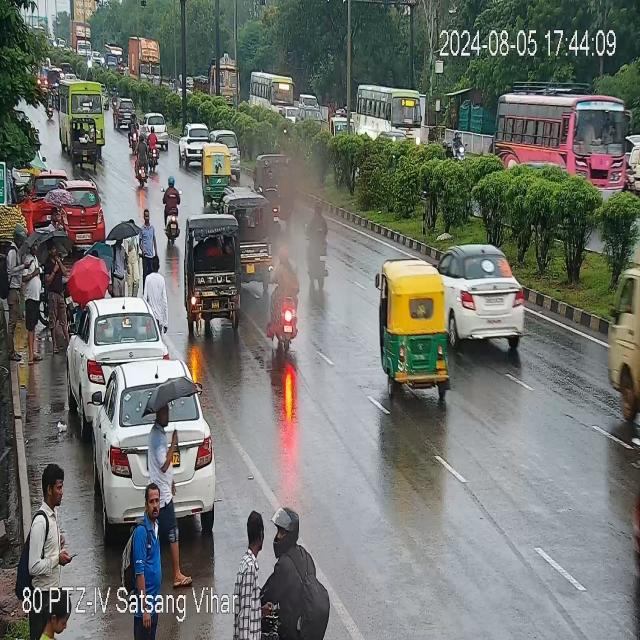2-wheelers: (258, 506, 329, 640), (304, 198, 333, 293), (271, 245, 297, 346), (39, 60, 75, 109), (161, 174, 180, 248), (618, 140, 640, 196), (266, 166, 284, 218), (144, 123, 163, 166), (135, 134, 150, 188), (126, 118, 142, 151)
auto: (372, 246, 458, 405), (182, 213, 248, 329), (603, 264, 636, 460), (224, 184, 272, 283), (256, 152, 294, 226), (201, 142, 237, 196)
bus: (493, 83, 638, 195), (346, 87, 436, 144), (55, 79, 113, 162), (253, 68, 295, 114)
car: (90, 358, 194, 518), (136, 368, 217, 514), (67, 297, 166, 397), (442, 240, 532, 348), (25, 179, 108, 244), (178, 124, 218, 166), (143, 112, 169, 140), (114, 98, 132, 130)
pedestrian: (150, 394, 194, 587), (26, 467, 74, 640), (132, 492, 163, 636), (42, 236, 68, 346), (5, 220, 22, 356), (26, 232, 40, 364), (144, 252, 168, 328), (124, 216, 144, 300), (140, 207, 158, 271), (110, 230, 126, 300), (22, 193, 34, 232), (47, 207, 61, 230)
truck: (239, 507, 262, 640), (122, 25, 161, 84), (205, 60, 237, 104)
